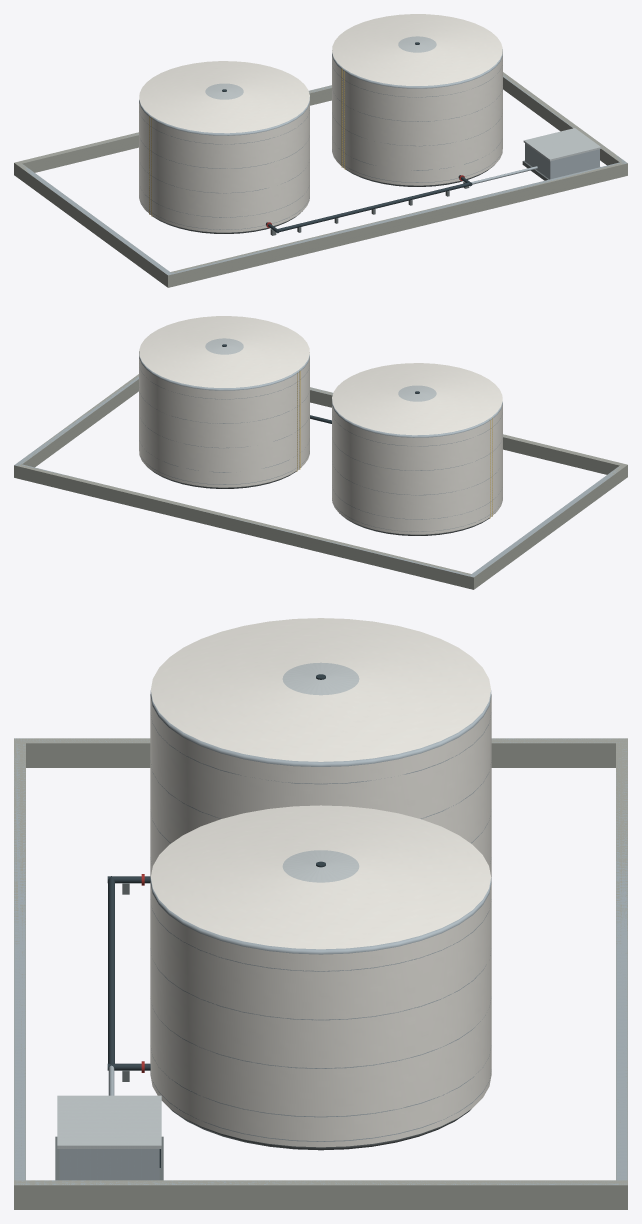
The model's file is fuel_farm_2.glb.
The picture shows the model from 3 angles, top to bottom: view 1: azimuth 30°, elevation 25°; view 2: azimuth 150°, elevation 25°; view 3: azimuth 270°, elevation 25°; orthographic projection. The views are drawn at different scales.
Visible parts, largest first — view 1: fuel_farm_2; view 2: fuel_farm_2; view 3: fuel_farm_2.
Boxes of the visible parts, x1,y1,x2,y2 form: fuel_farm_2: (14, 14, 627, 287); fuel_farm_2: (14, 316, 627, 589); fuel_farm_2: (14, 618, 627, 1209).
Bounding box in the file's own units: 62 × 14 × 36.
8 materials, 8 textured.
